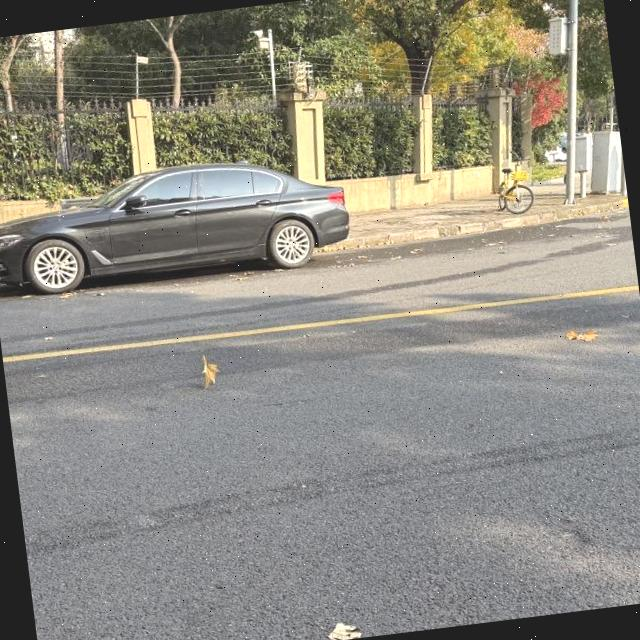curb: (316, 198, 628, 254)
